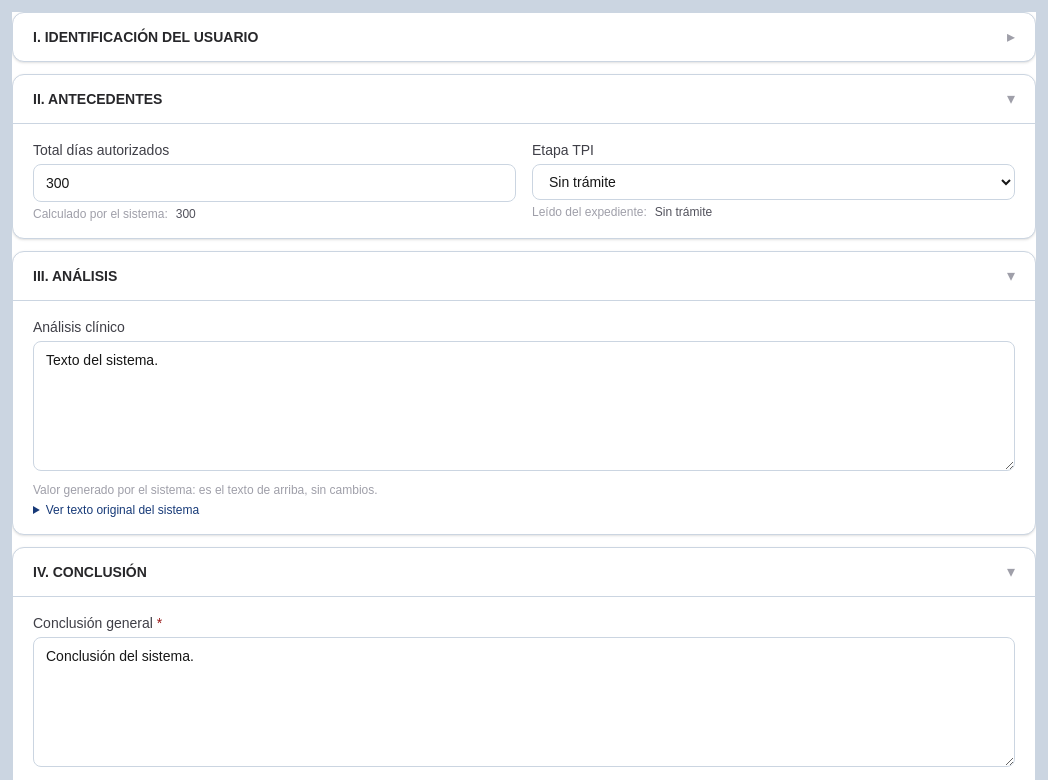
lo que dijo el sistema › sigue a la vista DESPUÉS de editar el campo
Replace the text in the number field labelled "Total días autorizados" with "285". click: (274, 183)
box: [33, 164, 516, 202]
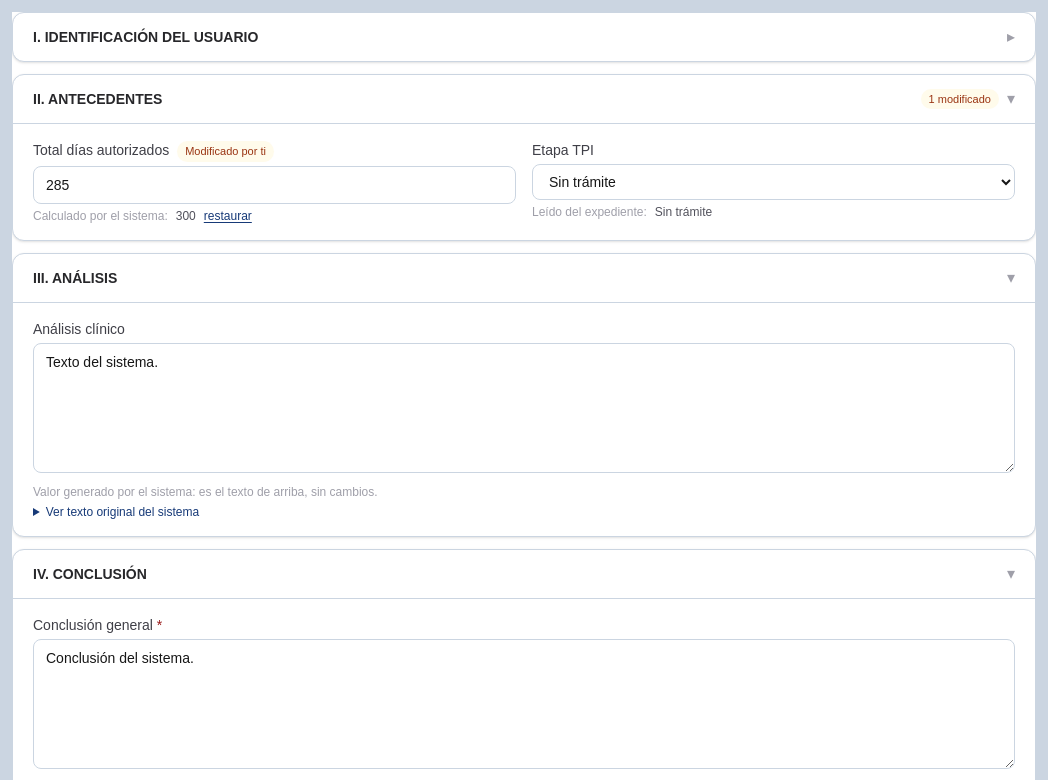
expect the text "300" is shown: met, box [176, 208, 196, 224]
expect the text "Modificado por ti" is shown once: met, box [177, 141, 274, 162]
